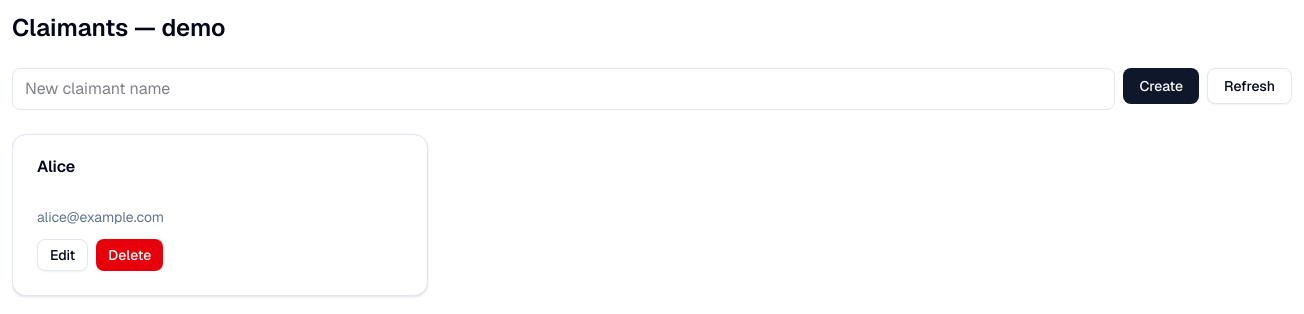
Test: ClaimantList UI › creates a claimant via the inline create input
Type "Bob" into the field with placeholder "New claimant name" at [564, 89], box [12,68,1115,110]
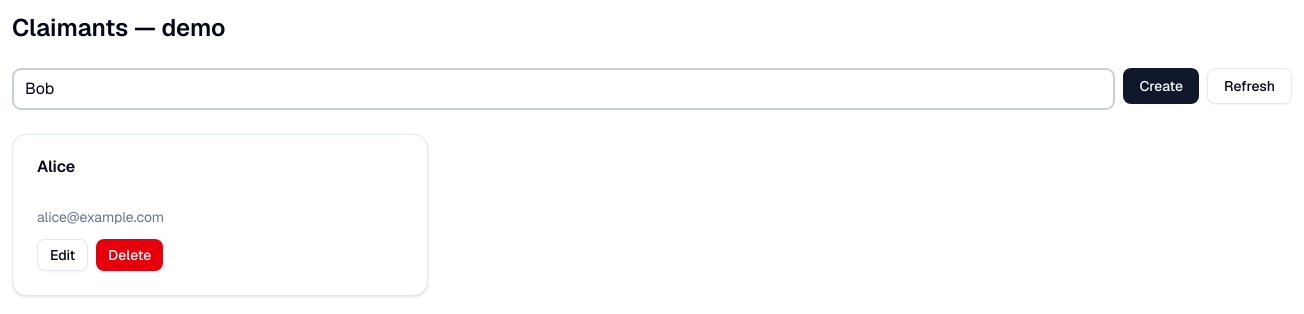
Click the button "Create" at [1161, 86], box [1123,68,1199,104]
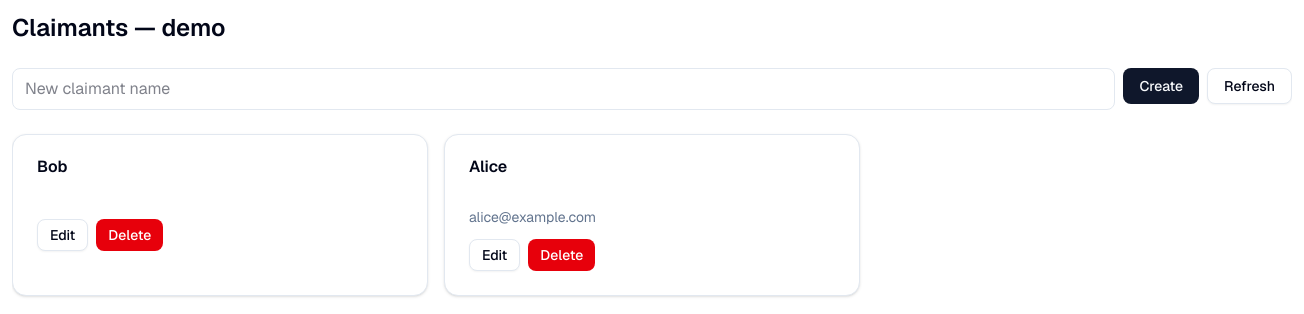
Check: the text "Bob" is shown, box [37,156,68,177]
